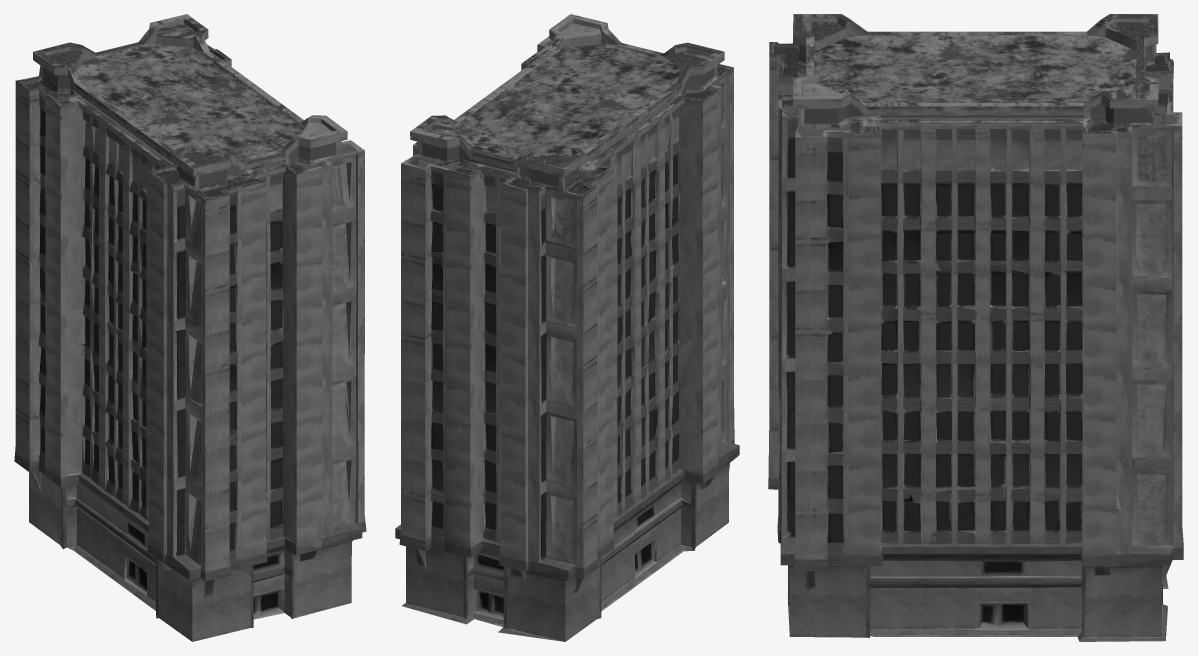
Rendered from SM_Dist_Build3_1.fbx.
3 renders of one model, left to right at view 1: azimuth 30°, elevation 25°; view 2: azimuth 150°, elevation 25°; view 3: azimuth 270°, elevation 25°, orthographic. The views are drawn at different scales.
Parts seen in each view (by area): view 1: SM_Dist_Build3_1_LOD0; view 2: SM_Dist_Build3_1_LOD0; view 3: SM_Dist_Build3_1_LOD0.
Boxes of the visible parts, <box> form: SM_Dist_Build3_1_LOD0: <box>14,14,366,641</box>; SM_Dist_Build3_1_LOD0: <box>395,14,739,641</box>; SM_Dist_Build3_1_LOD0: <box>768,14,1183,641</box>.
Bounding box in the file's own units: 3307 × 5438 × 7813.
1 material, 1 textured.
